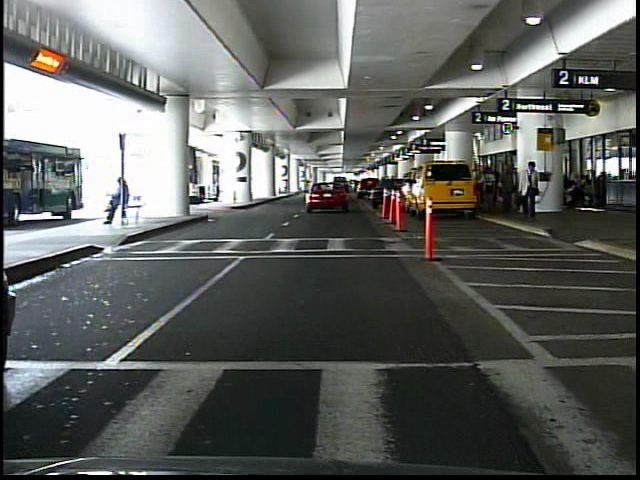person: (518, 159, 542, 217), (499, 163, 516, 219), (483, 166, 496, 210)
